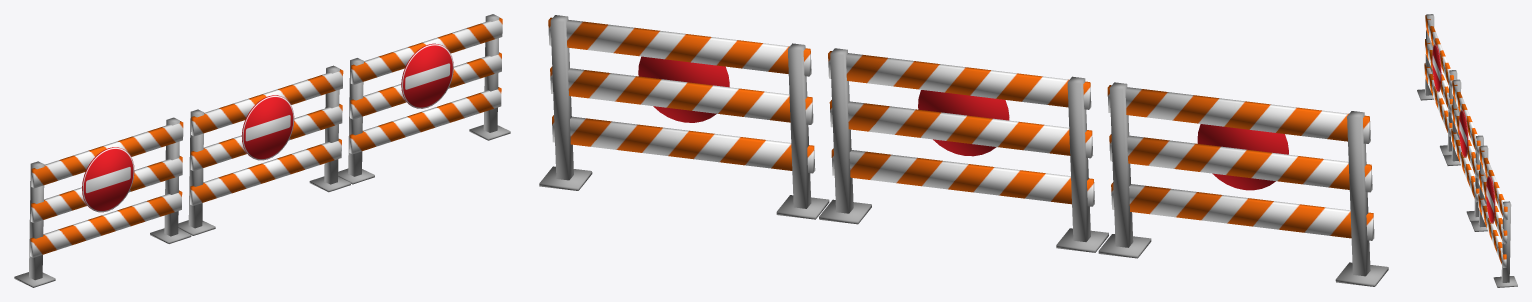
File: road_close2.glb
3 renders of one model, left to right at view 1: azimuth 30°, elevation 25°; view 2: azimuth 150°, elevation 25°; view 3: azimuth 270°, elevation 25°, orthographic. The views are drawn at different scales.
Visible parts, largest first — view 1: s1.jpg__, s3.png__; view 2: s1.jpg__, s3.png__; view 3: s1.jpg__, s3.png__.
Part boxes in pixels (<box>): s1.jpg__: <box>14,14,510,287</box>; s3.png__: <box>82,43,453,212</box>; s1.jpg__: <box>539,15,1388,286</box>; s3.png__: <box>638,56,1288,190</box>; s1.jpg__: <box>1417,14,1517,287</box>; s3.png__: <box>1432,44,1495,223</box>.
Size of the model in its own units: 5.4 by 1.27 by 1.24.
2 materials, 2 textured.
